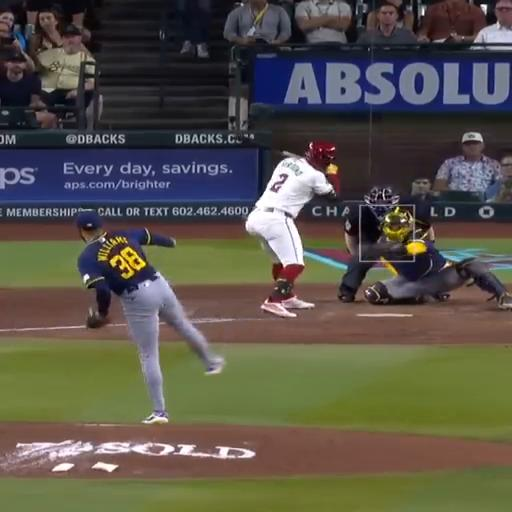bat: (234, 133, 303, 159)
